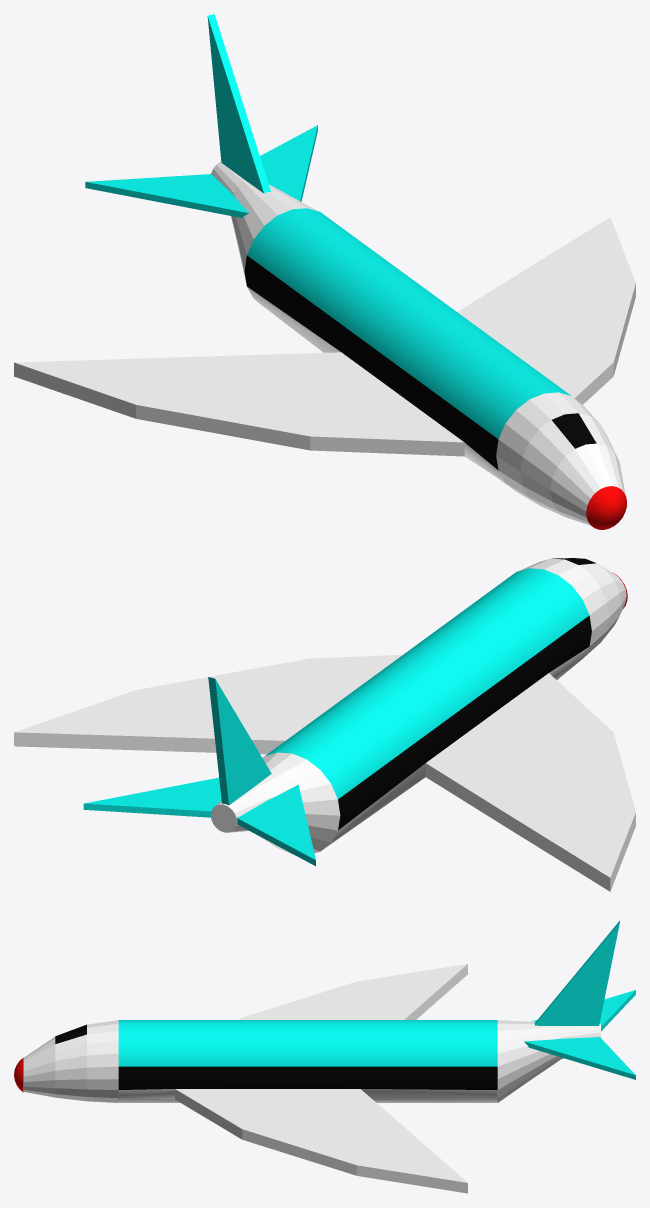
The model's file is Player.obj.
3 views of the same model, one above another, from view 1: azimuth 30°, elevation 25°; view 2: azimuth 150°, elevation 25°; view 3: azimuth 270°, elevation 25° (orthographic). The views are drawn at different scales.
Parts seen in each view (by area): view 1: Cylinder001; view 2: Cylinder001; view 3: Cylinder001.
Part boxes in pixels (bbox=[...]): Cylinder001: bbox=[14, 14, 635, 529]; Cylinder001: bbox=[14, 558, 635, 891]; Cylinder001: bbox=[14, 920, 635, 1193].
Size of the model in its own units: 124 by 46.8 by 148.
Materials: 1 (1 with a texture image).
